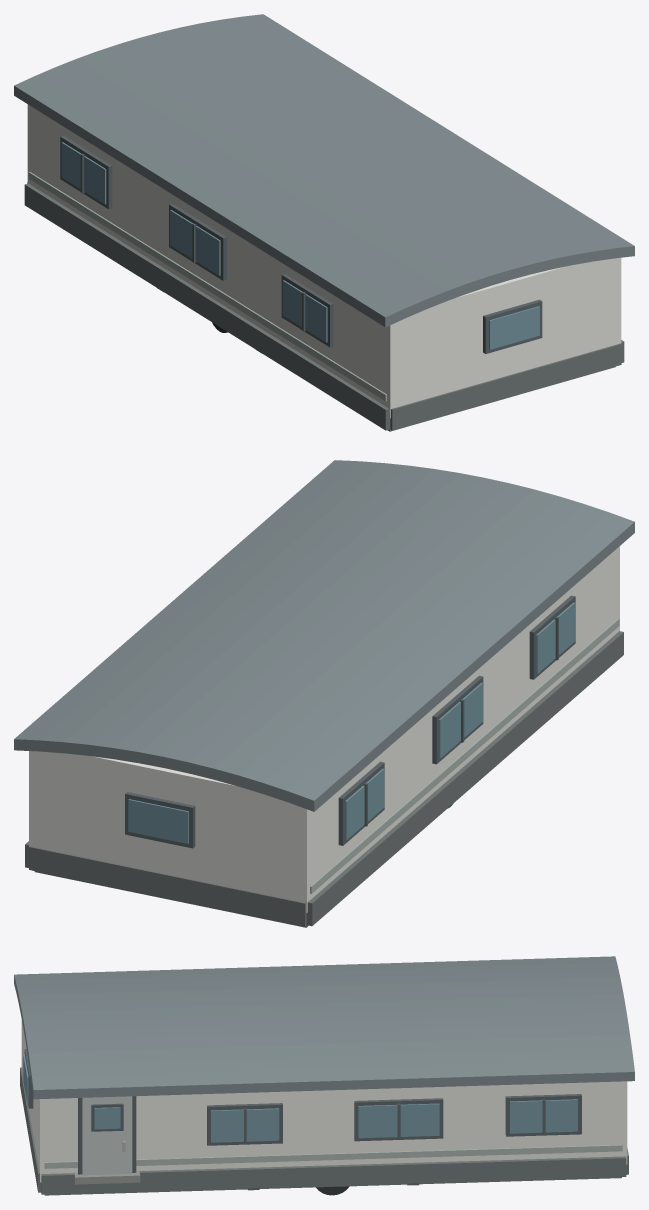
3 views of the same model, one above another, from view 1: azimuth 30°, elevation 25°; view 2: azimuth 150°, elevation 25°; view 3: azimuth 270°, elevation 25° (orthographic). The views are drawn at different scales.
Visible parts, largest first — view 1: shallow_crowned_roof, main_caravan_body, lower_side_skirt_negative, lower_end_skirt_positive, side_stripe_negative, negative_side_window_2_glass, negative_side_window_3_glass, negative_side_window_1_glass, front_end_window_glass, front_end_window_frame, negative_side_window_2_frame, negative_side_window_1_frame (+1 smaller); view 2: shallow_crowned_roof, main_caravan_body, lower_side_skirt_negative, lower_end_skirt_negative, side_stripe_negative, rear_end_window_glass, negative_side_window_2_glass, negative_side_window_1_glass, negative_side_window_3_glass, rear_end_window_frame, negative_side_window_2_frame, negative_side_window_1_frame (+1 smaller); view 3: shallow_crowned_roof, main_caravan_body, lower_side_skirt_positive, side_stripe_positive, entrance_door_panel, positive_side_window_2_glass, positive_side_window_3_glass, positive_side_window_1_glass, positive_side_window_2_frame, positive_side_window_1_frame, positive_side_window_3_frame, underframe_main (+5 smaller).
Boxes of the visible parts, bbox=[...] form: shallow_crowned_roof: bbox=[14, 14, 634, 327]; main_caravan_body: bbox=[27, 104, 621, 418]; lower_side_skirt_negative: bbox=[24, 183, 390, 430]; lower_end_skirt_positive: bbox=[390, 343, 621, 430]; side_stripe_negative: bbox=[29, 172, 386, 401]; negative_side_window_2_glass: bbox=[170, 210, 220, 275]; negative_side_window_3_glass: bbox=[282, 280, 327, 342]; negative_side_window_1_glass: bbox=[61, 142, 106, 204]; front_end_window_glass: bbox=[489, 306, 539, 349]; front_end_window_frame: bbox=[483, 299, 542, 353]; negative_side_window_2_frame: bbox=[169, 203, 226, 280]; negative_side_window_1_frame: bbox=[60, 136, 112, 209]; shallow_crowned_roof: bbox=[14, 460, 634, 811]; main_caravan_body: bbox=[29, 546, 619, 912]; lower_side_skirt_negative: bbox=[306, 631, 623, 926]; lower_end_skirt_negative: bbox=[29, 846, 306, 926]; side_stripe_negative: bbox=[310, 618, 619, 893]; rear_end_window_glass: bbox=[128, 799, 188, 843]; negative_side_window_2_glass: bbox=[438, 682, 482, 758]; negative_side_window_1_glass: bbox=[345, 768, 384, 840]; negative_side_window_3_glass: bbox=[536, 602, 575, 673]; rear_end_window_frame: bbox=[125, 792, 195, 848]; negative_side_window_2_frame: bbox=[432, 675, 483, 764]; negative_side_window_1_frame: bbox=[338, 761, 384, 845]; shallow_crowned_roof: bbox=[14, 956, 634, 1099]; main_caravan_body: bbox=[21, 1020, 627, 1182]; lower_side_skirt_positive: bbox=[41, 1156, 626, 1194]; side_stripe_positive: bbox=[44, 1145, 622, 1168]; entrance_door_panel: bbox=[82, 1096, 132, 1175]; positive_side_window_2_glass: bbox=[358, 1103, 439, 1138]; positive_side_window_3_glass: bbox=[211, 1108, 279, 1142]; positive_side_window_1_glass: bbox=[510, 1099, 577, 1133]; positive_side_window_2_frame: bbox=[354, 1098, 443, 1141]; positive_side_window_1_frame: bbox=[505, 1094, 581, 1136]; positive_side_window_3_frame: bbox=[207, 1103, 282, 1145]; underframe_main: bbox=[44, 1177, 621, 1195].
Size of the model in its own units: 5.33 by 2.5 by 10.46.
